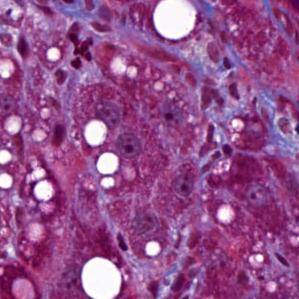inflammation: (196, 121, 239, 173), (62, 18, 98, 73), (13, 29, 32, 64), (216, 53, 239, 79)
